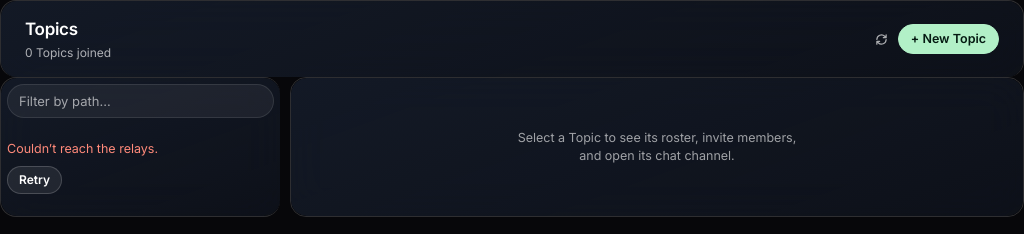
Scenario: QURATOR-85 (W2 form) — a successful paint clears the tree error › mount paint FAILS -> error + Retry render -> Retry succeeds -> the tree renders and the error is gone
Expected: the message "Couldn’t reach the relays. Retry" is shown, [7,141,158,194]
Click the button "Retry": (34, 180) [7,166,62,194]
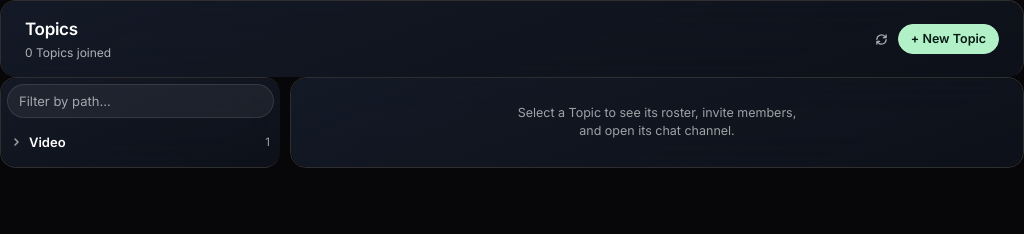
Expected: the button with class "root-header" is shown
Click the button with class "root-header": (47, 142) [7,124,274,161]
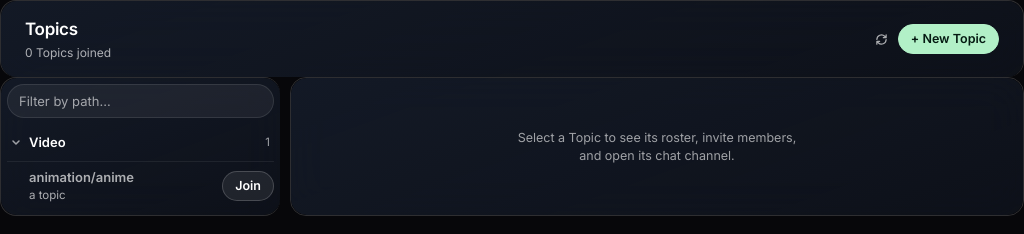
Expected: the message "Couldn’t reach the relays. Retry" is not shown
Expected: the text "animation/anime" is shown, [29,169,134,185]
